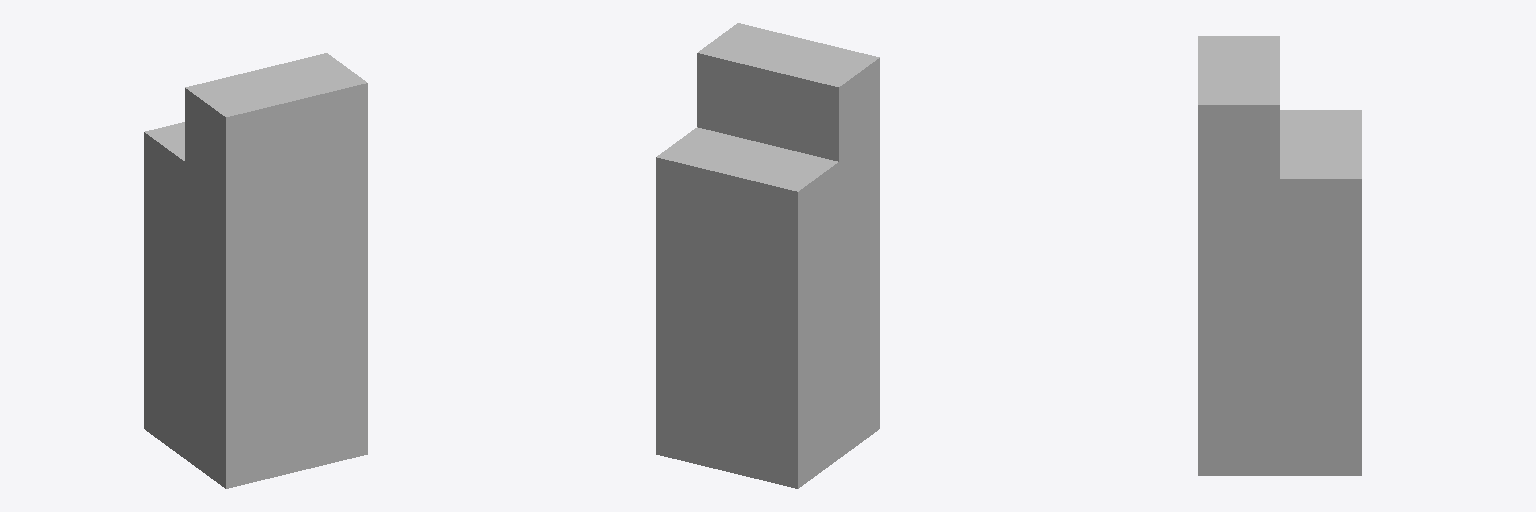
The model's file is Wall.obj.
The picture shows the model from 3 angles: view 1: azimuth 30°, elevation 25°; view 2: azimuth 150°, elevation 25°; view 3: azimuth 270°, elevation 25°; orthographic projection.
Parts seen in each view (by area): view 1: Wall; view 2: Wall; view 3: Wall.
Boxes of the visible parts, x1=… form: Wall: x1=144, y1=53, x2=367, y2=488; Wall: x1=656, y1=23, x2=879, y2=488; Wall: x1=1198, y1=36, x2=1361, y2=475.
Size of the model in its own units: 2 by 5 by 2.